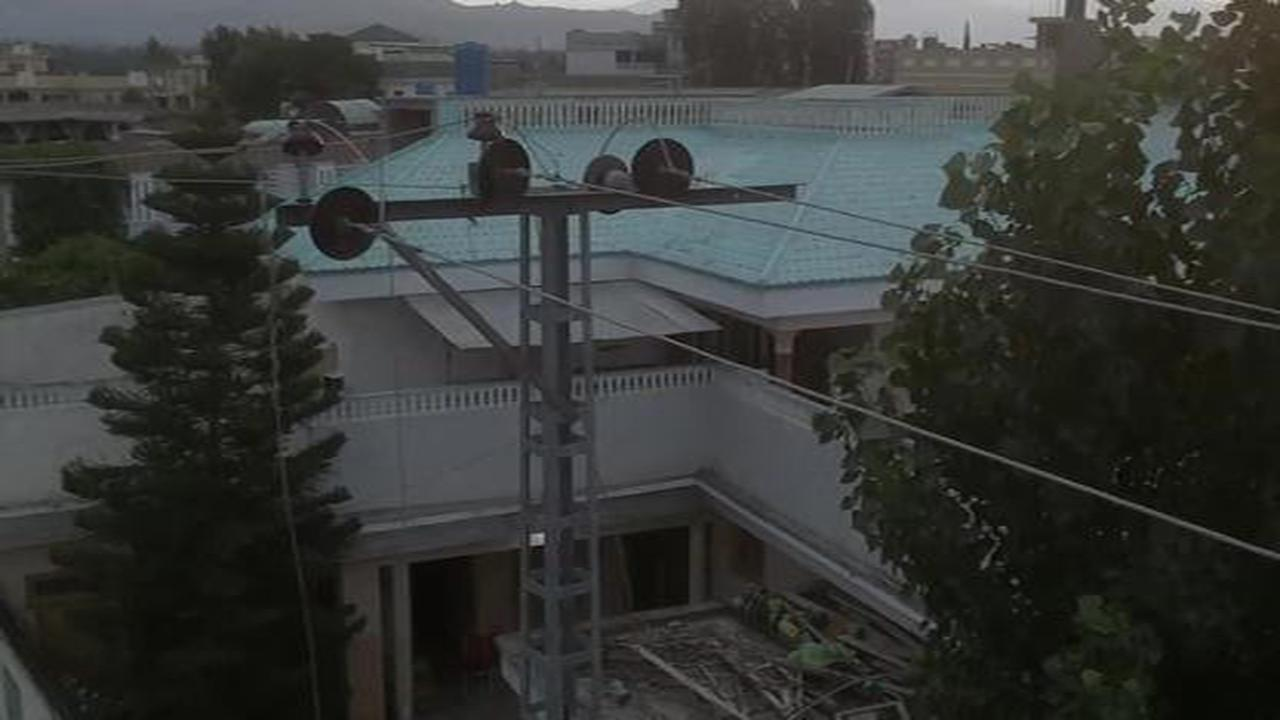insulator_disc: (308, 179, 385, 262), (630, 132, 700, 203), (476, 138, 536, 206), (582, 154, 635, 217)
insulator_pin: (279, 112, 327, 159), (465, 105, 507, 145)
